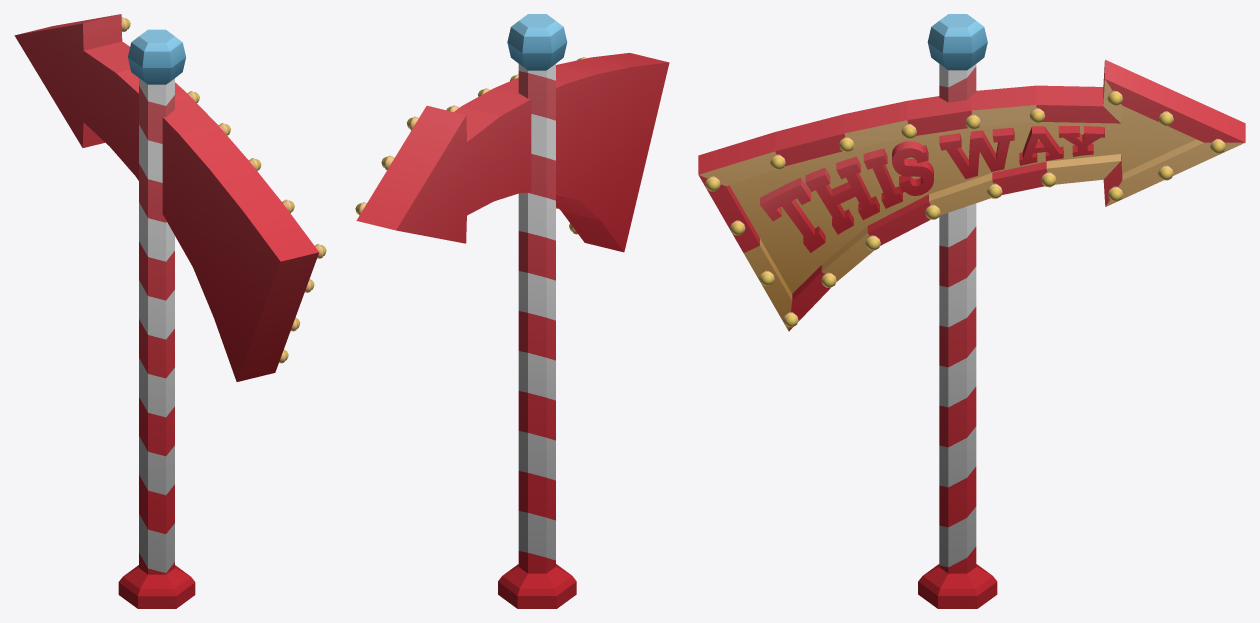
The model's file is this_way_right_pole.fbx.
The picture shows the model from 3 angles, left to right: view 1: azimuth 30°, elevation 25°; view 2: azimuth 150°, elevation 25°; view 3: azimuth 270°, elevation 25°; orthographic projection. The views are drawn at different scales.
Parts seen in each view (by area): view 1: this_way_right_pole; view 2: this_way_right_pole; view 3: this_way_right_pole.
Part boxes in pixels (box(x1,y1,x2,y2)): this_way_right_pole: box(14, 14, 326, 608); this_way_right_pole: box(355, 14, 669, 608); this_way_right_pole: box(698, 14, 1245, 608).
Size of the model in its own units: 38.82 by 264 by 228.
